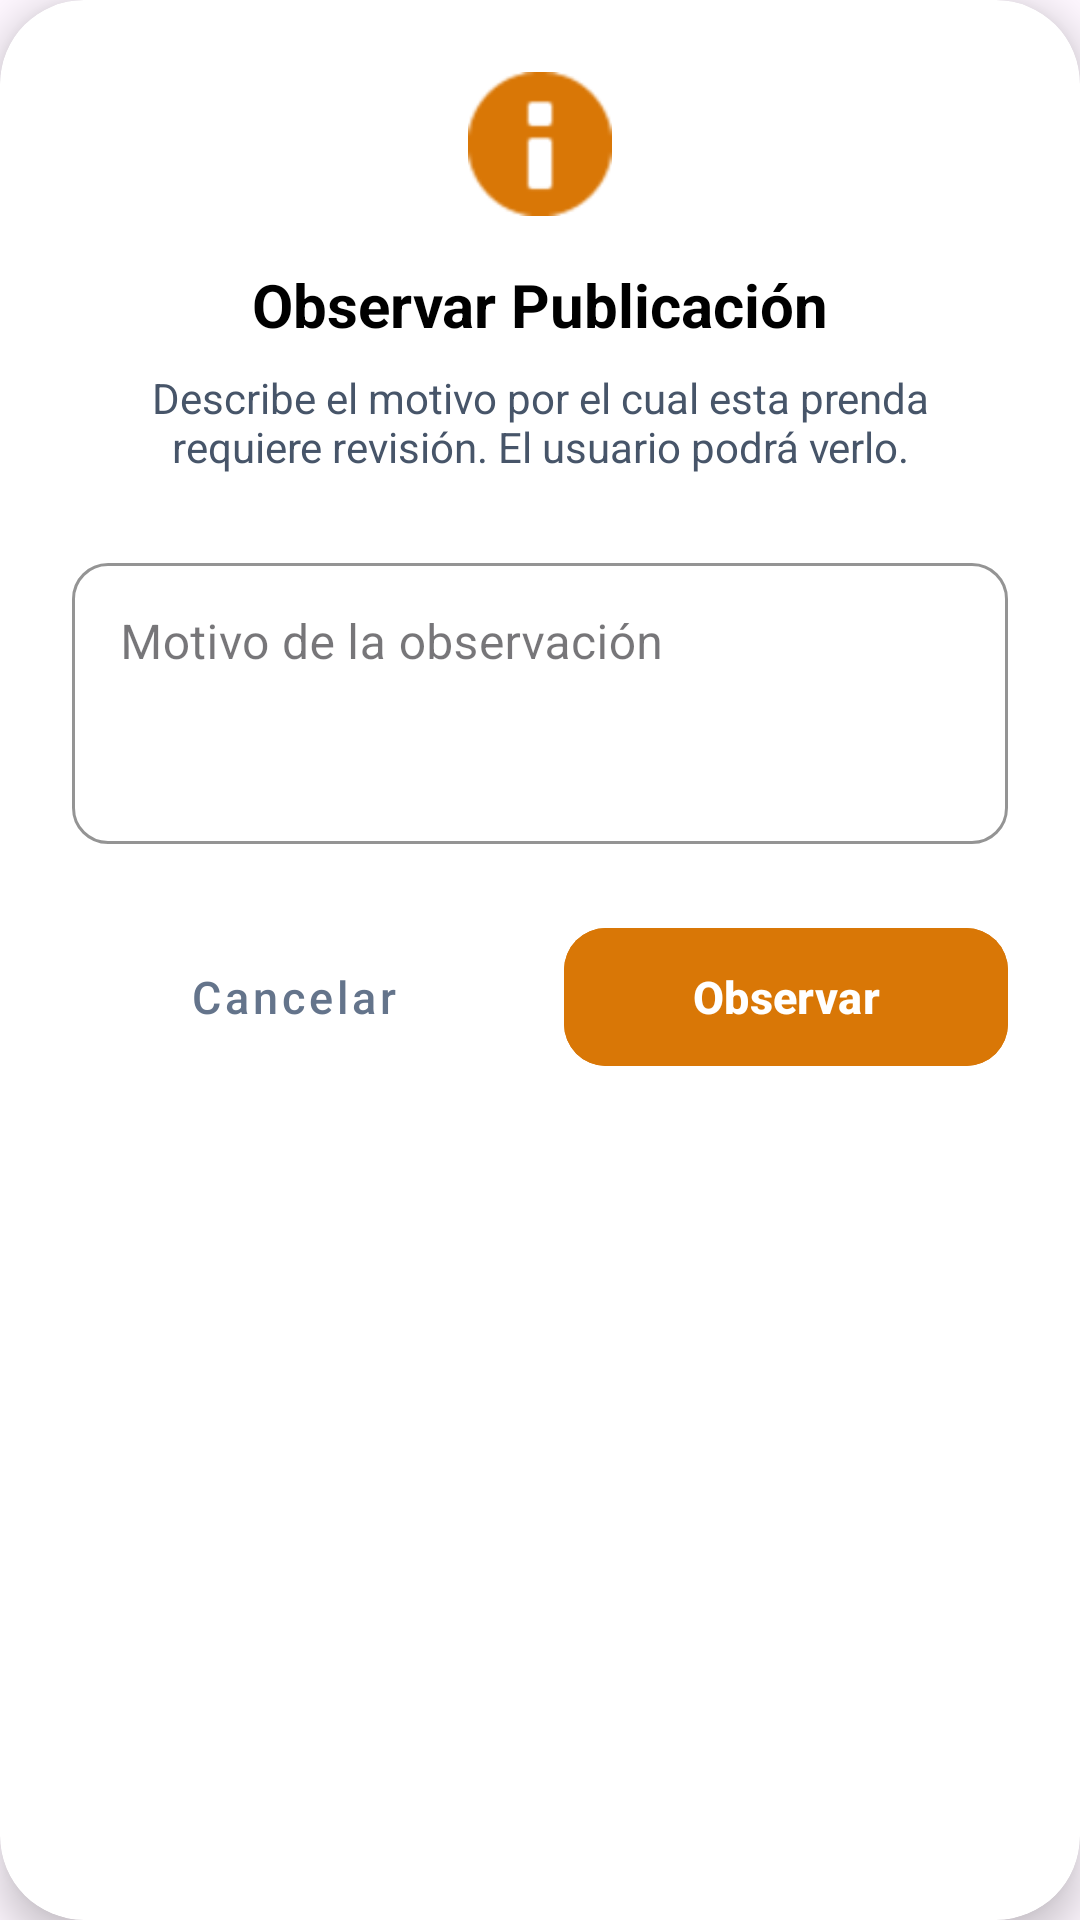

Icon click points for this 1080*1920 phone screenshot, format [x,y]:
Icono de advertencia: [540,144]
